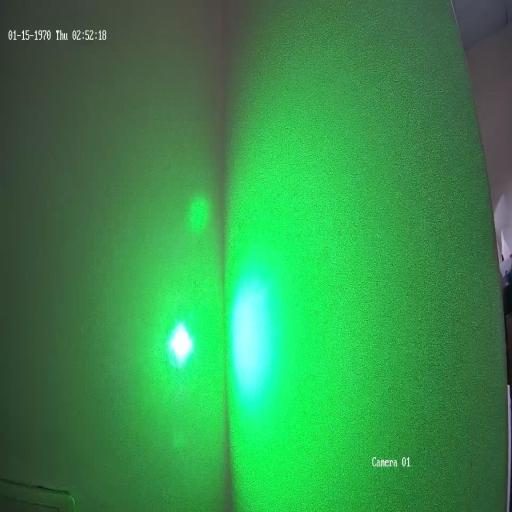laser: (162, 310, 199, 376)
